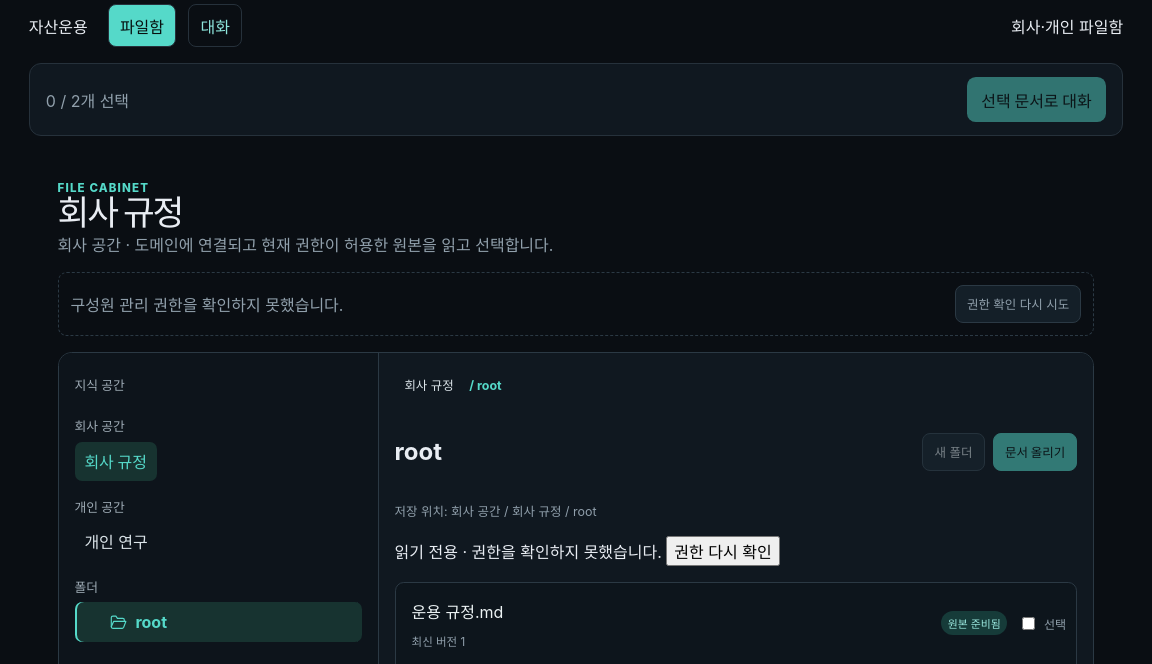
Scenario: invalidates and disables a stale selection after a same-workspace authorization failure
Click the checkbox named "운용 규정.md 선택" at (1029, 623), box [1022, 617, 1035, 630]
(page scrolled)
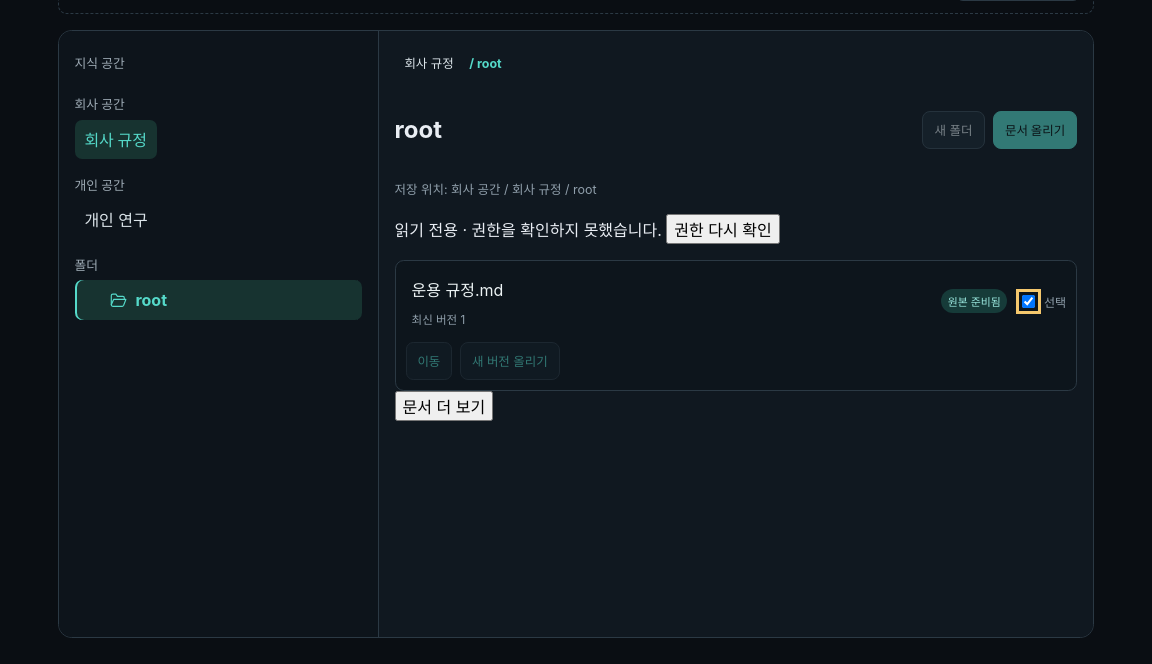
Click the button "문서 더 보기" at (444, 406), box [395, 391, 493, 421]
(page scrolled)
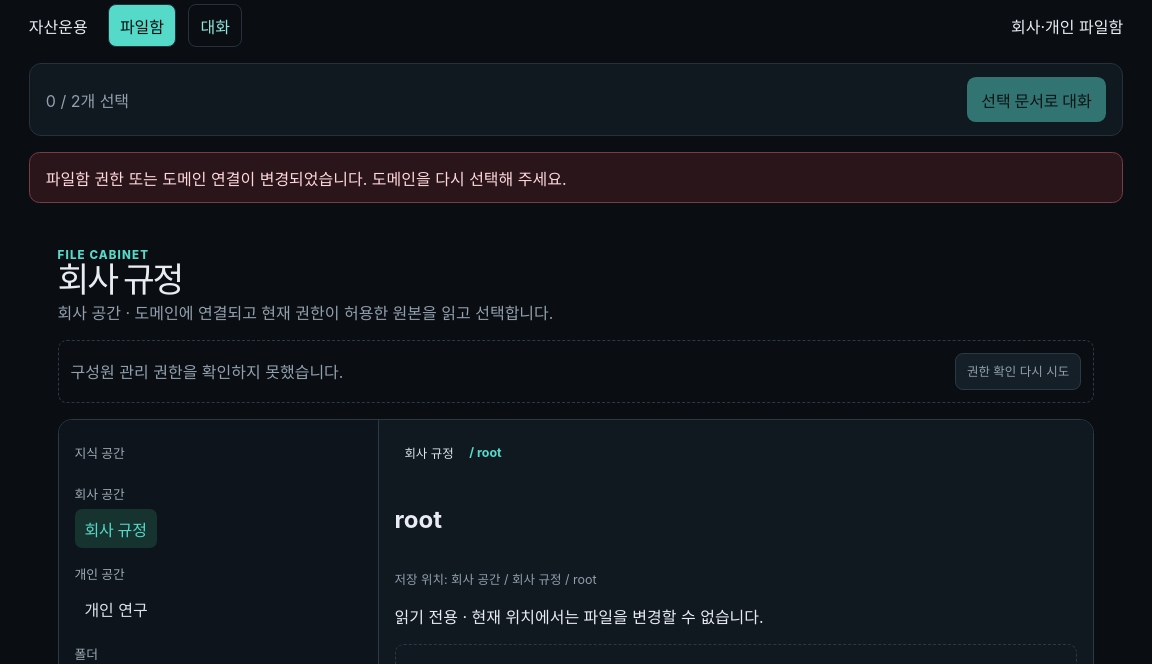
Expected: the text "파일함 권한 또는 도메인 연결이 변경되었습니다. 도메인을 다시 선택해 주세요." is shown, [29, 152, 1123, 203]
Expected: the button "선택 문서로 대화" is disabled, [967, 77, 1106, 122]
